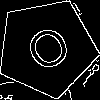O: (22, 23, 80, 82)
